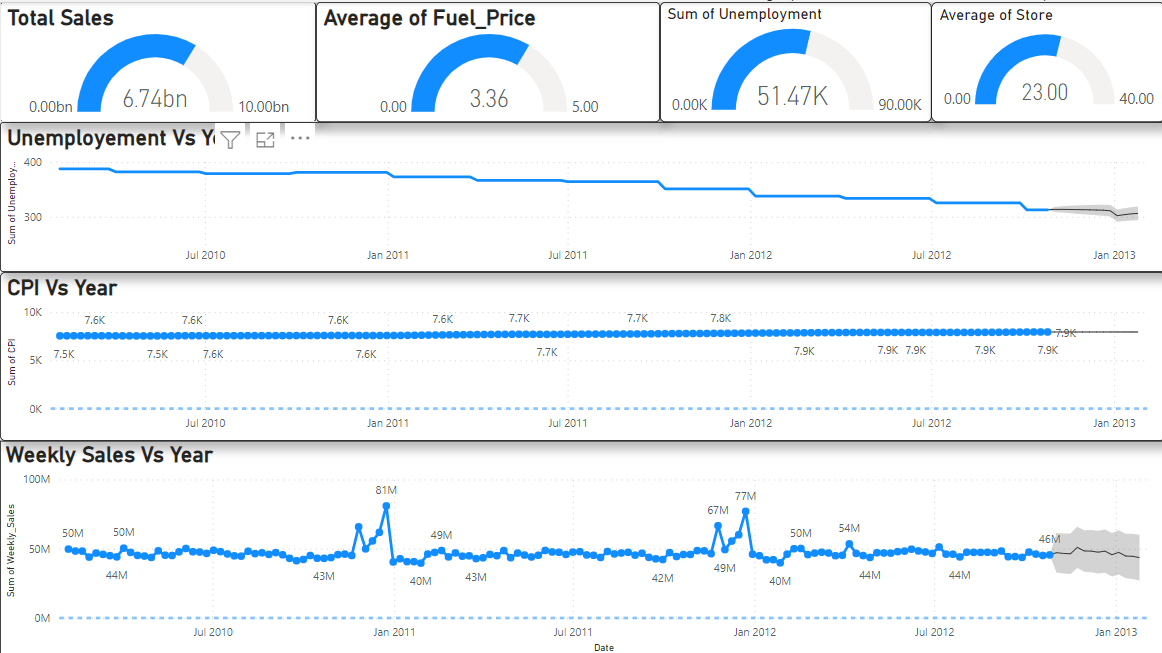

The dashboard page shown, as its layout file describes it:
{"tool":"powerbi","page":{"name":"Predictive Analysis","canvas":[1280,720],"ordinal":1},"visuals":[{"type":"lineChart","title":"Weekly Sales Vs Year","fields":{"Y":["Sum(walmart-sales-dataset.Weekly_Sales)"],"Category":["walmart-sales-dataset.Date"]},"box":[0,482.1,1280,237.6],"z":0},{"type":"PowerApps_PBI_CV_C29F1DCC_81F5_4973_94AD_0517D44CC06A","fields":{"table":["walmart-sales-dataset.Date.Variation.Date Hierarchy.Year","walmart-sales-dataset.Date.Variation.Date Hierarchy.Quarter","walmart-sales-dataset.Date.Variation.Date Hierarchy.Month","walmart-sales-dataset.Date.Variation.Date Hierarchy.Day","Sum(walmart-sales-dataset.Unemployment)","Sum(walmart-sales-dataset.CPI)"]},"box":[0,384.3,934.3,12.9],"z":1000},{"type":"lineChart","title":"CPI Vs Year","fields":{"Category":["walmart-sales-dataset.Date"],"Y":["Sum(walmart-sales-dataset.CPI)"]},"box":[0,296.7,1280,185.4],"z":2000},{"type":"lineChart","title":"Unemployement Vs Year","fields":{"Category":["walmart-sales-dataset.Date.Variation.Date Hierarchy.Year","walmart-sales-dataset.Date.Variation.Date Hierarchy.Quarter","walmart-sales-dataset.Date.Variation.Date Hierarchy.Month","walmart-sales-dataset.Date.Variation.Date Hierarchy.Day"],"Y":["Sum(walmart-sales-dataset.Unemployment)"]},"box":[0,131.8,1280,164.8],"z":3000},{"type":"gauge","title":"Total Sales","fields":{"Y":["Sum(walmart-sales-dataset.Weekly_Sales)"]},"box":[0,0,347.5,131.8],"z":4000},{"type":"gauge","title":"Average of Fuel_Price","fields":{"Y":["Avg(walmart-sales-dataset.Fuel_Price)"]},"box":[347.5,0,377.7,131.8],"z":5000},{"type":"gauge","fields":{"Y":["Sum(walmart-sales-dataset.Unemployment)"]},"box":[725.2,0,298,131.8],"z":6000},{"type":"gauge","fields":{"Y":["Avg(walmart-sales-dataset.Store)"]},"box":[1023.2,0,256.8,131.8],"z":7000}]}

Visuals, with their boxes in screenshot pixels (x1, y1, x2, y2), scaled from the page's 1280x720 canvas onto the 1162x653 screenshot:
"Weekly Sales Vs Year" lineChart: <bbox>0, 437, 1161, 652</bbox>
PowerApps_PBI_CV_C29F1DCC_81F5_4973_94AD_0517D44CC06A - walmart-sales-dataset.Date.Variation.Date Hierarchy.Year x walmart-sales-dataset.Date.Variation.Date Hierarchy.Quarter: <bbox>0, 349, 848, 360</bbox>
"CPI Vs Year" lineChart: <bbox>0, 269, 1161, 437</bbox>
"Unemployement Vs Year" lineChart: <bbox>0, 120, 1161, 269</bbox>
"Total Sales" gauge: <bbox>0, 0, 315, 120</bbox>
"Average of Fuel_Price" gauge: <bbox>315, 0, 658, 120</bbox>
gauge - Sum(walmart-sales-dataset.Unemployment): <bbox>658, 0, 929, 120</bbox>
gauge - Avg(walmart-sales-dataset.Store): <bbox>929, 0, 1161, 120</bbox>
